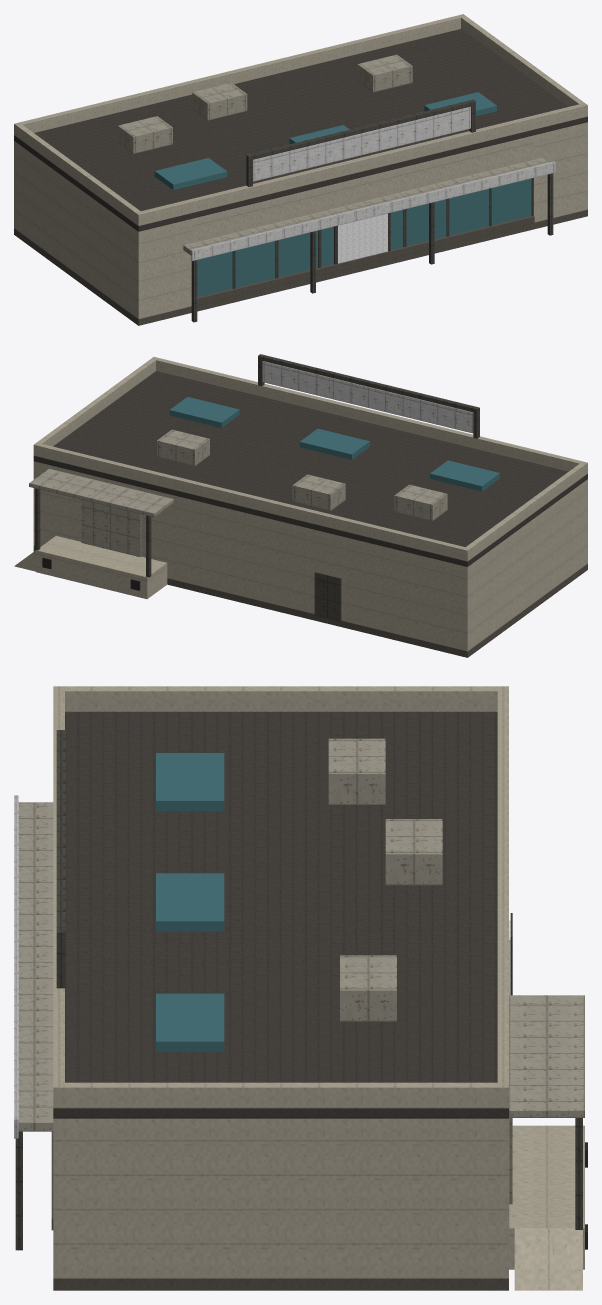
3 views of the same model, one above another, from view 1: azimuth 30°, elevation 25°; view 2: azimuth 150°, elevation 25°; view 3: azimuth 270°, elevation 25° (orthographic). The views are drawn at different scales.
Parts seen in each view (by area): view 1: site_supermarket_restored; view 2: site_supermarket_restored; view 3: site_supermarket_restored.
Boxes of the visible parts, x1,y1,x2,y2 form: site_supermarket_restored: [14, 14, 587, 325]; site_supermarket_restored: [14, 354, 587, 657]; site_supermarket_restored: [14, 686, 587, 1290].
Size of the model in its own units: 25 by 7.52 by 15.12.
Materials: 9 (9 with a texture image).
